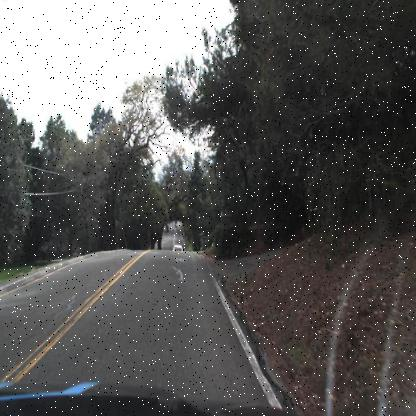car: (169, 239, 184, 255)
